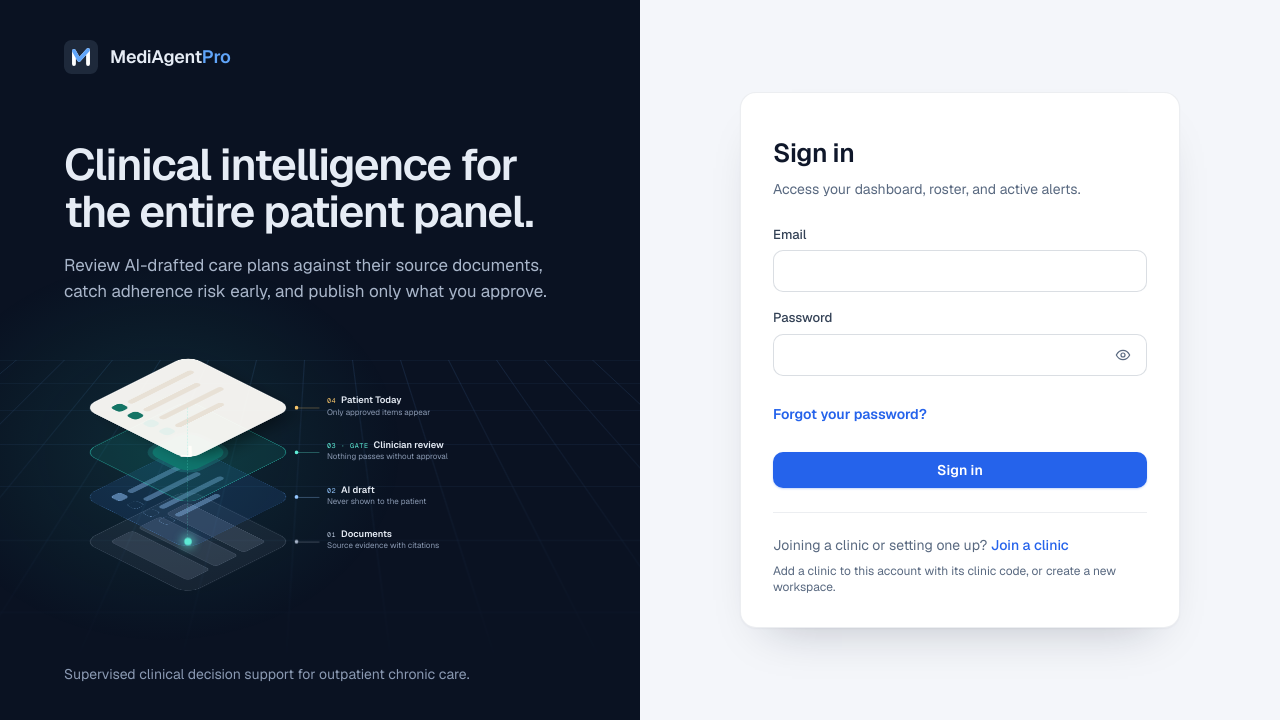
Clinician login page › rejects patient credentials on the clinician portal
The width and height of the screenshot is (1280, 720).
Type "patient@example.com" into the field labelled "Email" at (960, 271), box [773,250,1147,292]
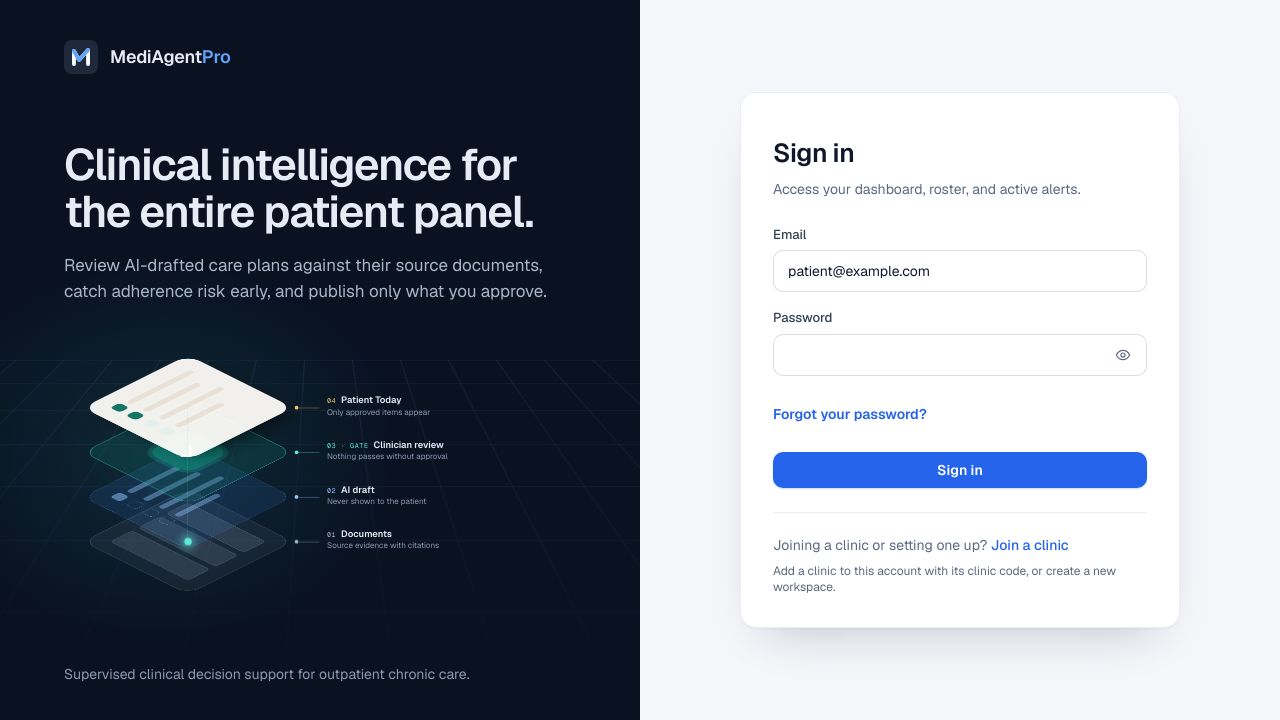
Type "SecurePass123!" into the password field labelled "Password" at (960, 355), box [773,334,1147,376]
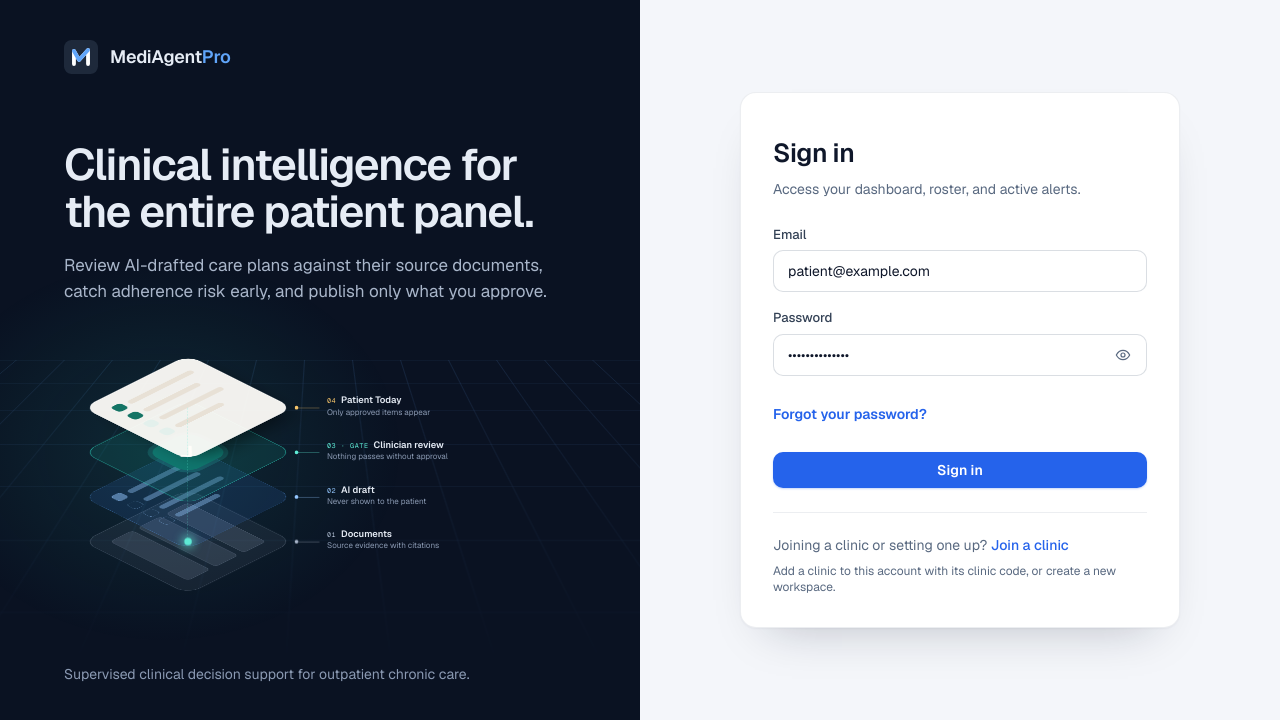
Click the button "Sign in" at (960, 470), box [773,452,1147,488]
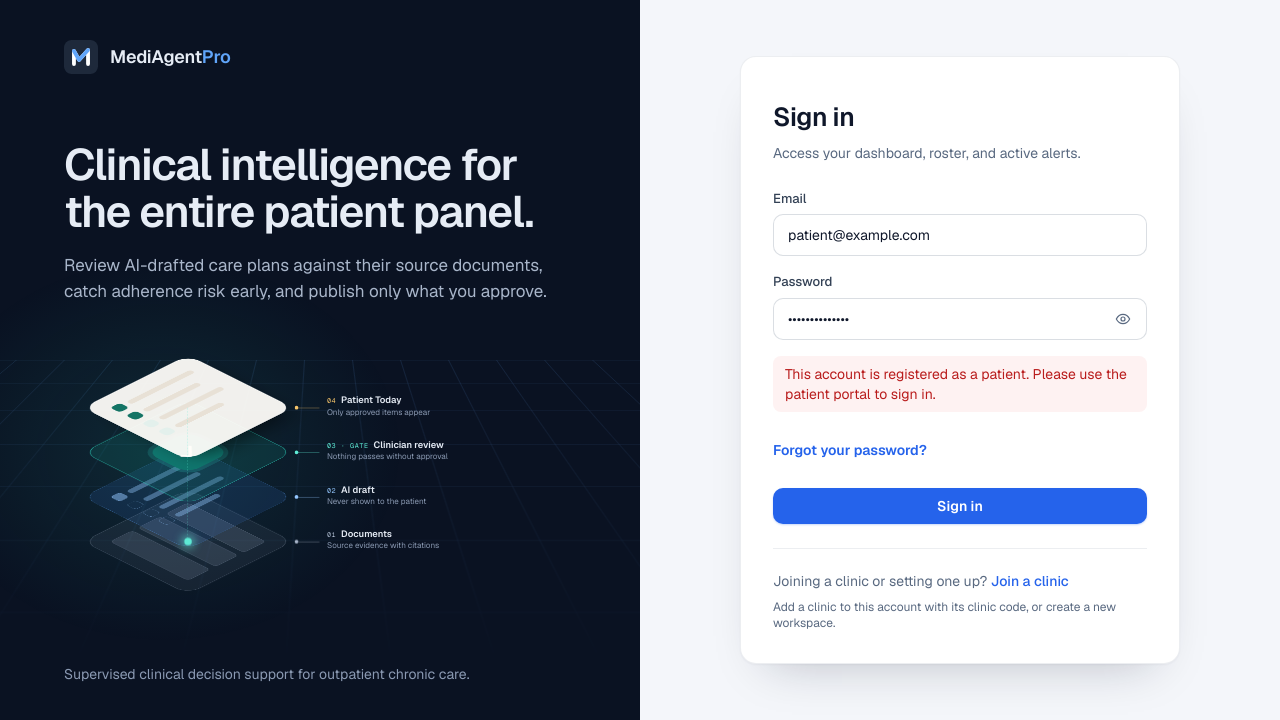
Expected: the text "registered as a patient" is shown, [785,365,1127,403]
